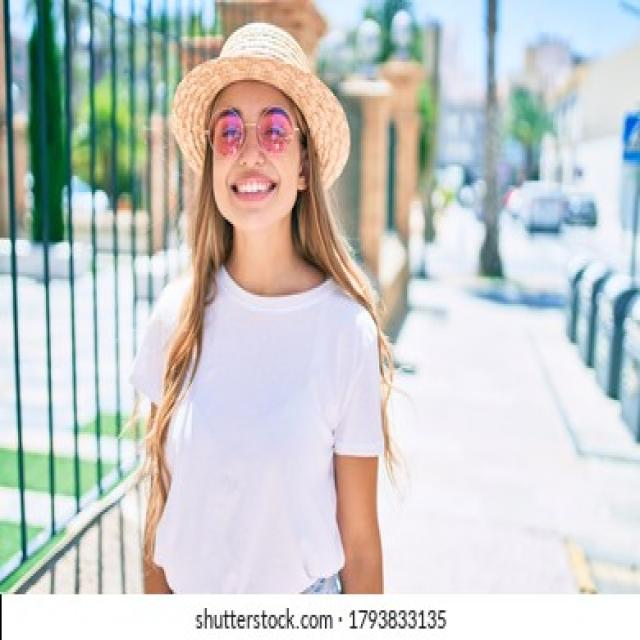hat: (172, 23, 351, 228)
